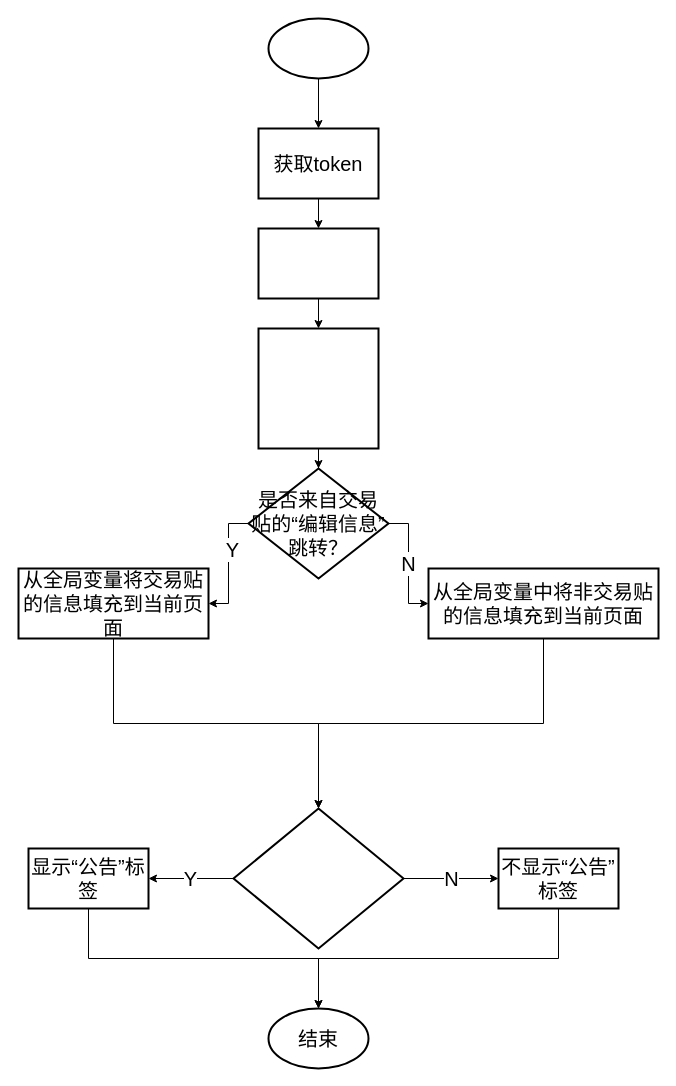
This 676x1086 diagram has some shape labels left out. The centre of each missing label's shape, as x and y in pixels:
"将token写入全局变量表，并记录当前获取token的时间" goes at point 318,388.
"开始" goes at point 318,48.
"当前学校是否与当前管理员的学校一致？" goes at point 318,878.
"生成token并返回" goes at point 318,263.
